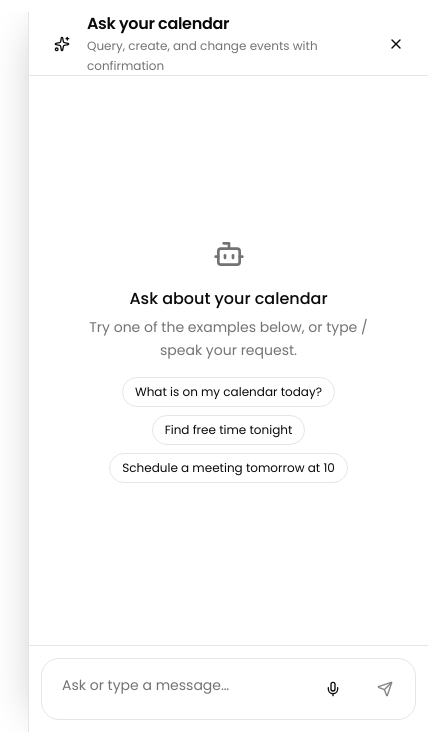
Test: AssistantPanel › still submits on browsers without crypto.randomUUID
Type "Apa jadwal saya?" into the text box with placeholder "Ask or type a message…".
click(176, 689); type("Apa jadwal saya?")  # box [50,667,303,711]
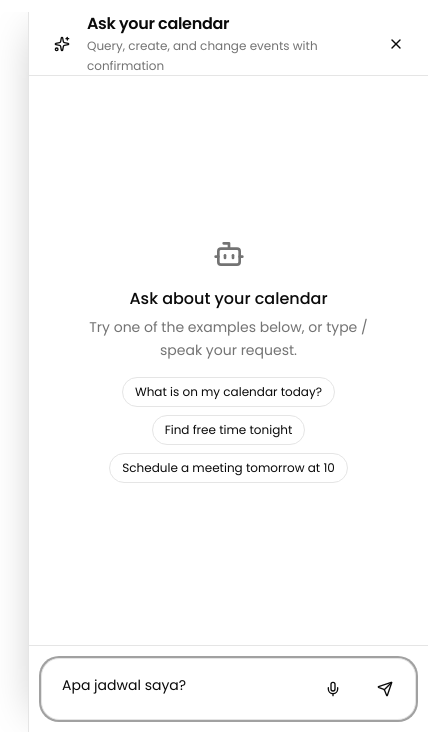
Click the button named "Send".
click(385, 689)  # box [363,667,407,711]
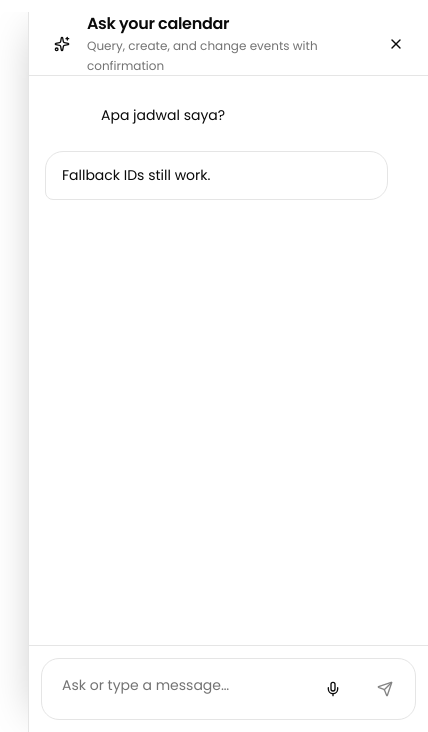
Expected: the text "Fallback IDs still work." is shown, [62,165,210,185]
